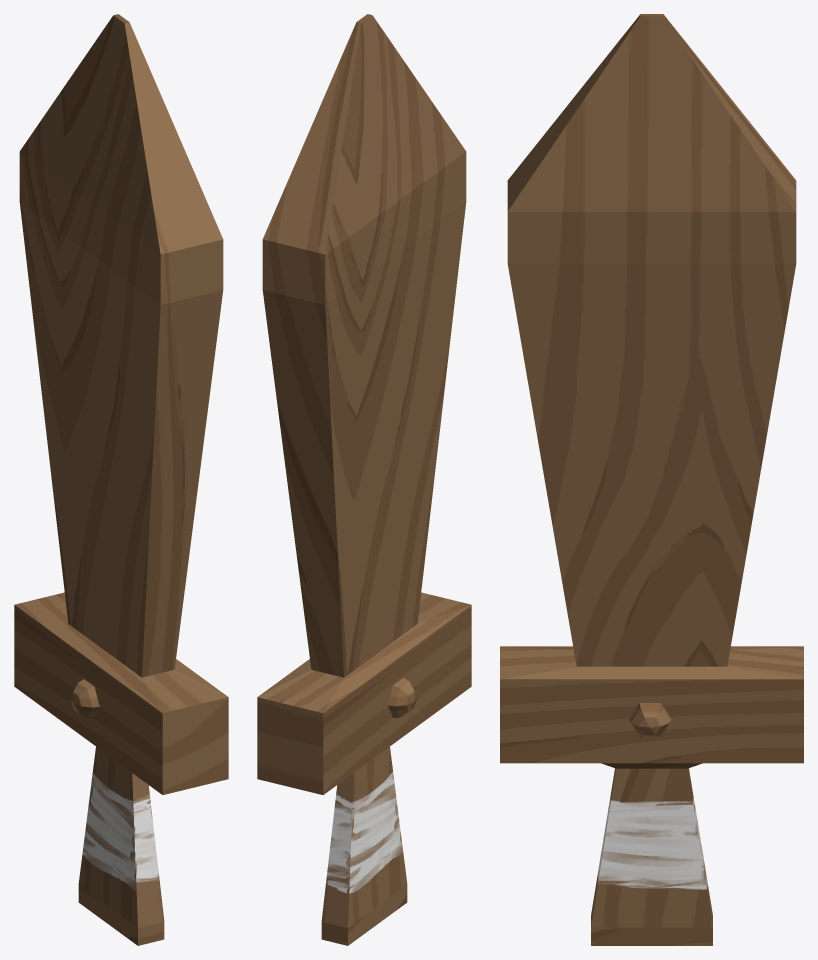
File: SwordE.fbx
3 renders of one model, left to right at view 1: azimuth 30°, elevation 25°; view 2: azimuth 150°, elevation 25°; view 3: azimuth 270°, elevation 25°, orthographic. The views are drawn at different scales.
Parts seen in each view (by area): view 1: sword E; view 2: sword E; view 3: sword E.
Boxes of the visible parts, x1,y1,x2,y2 form: sword E: [14, 14, 228, 945]; sword E: [257, 14, 471, 945]; sword E: [500, 14, 803, 945].
Size of the model in its own units: 0.105 by 0.9263 by 0.276.
